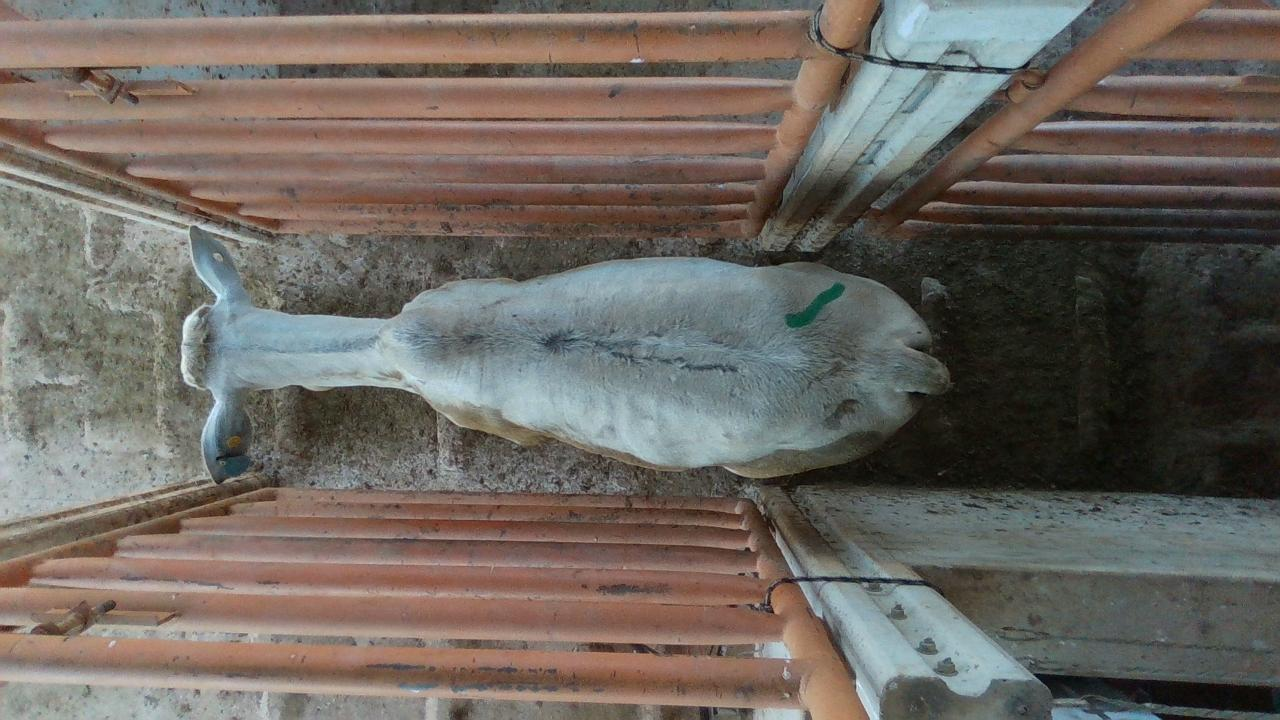cattle: (178, 223, 953, 483)
